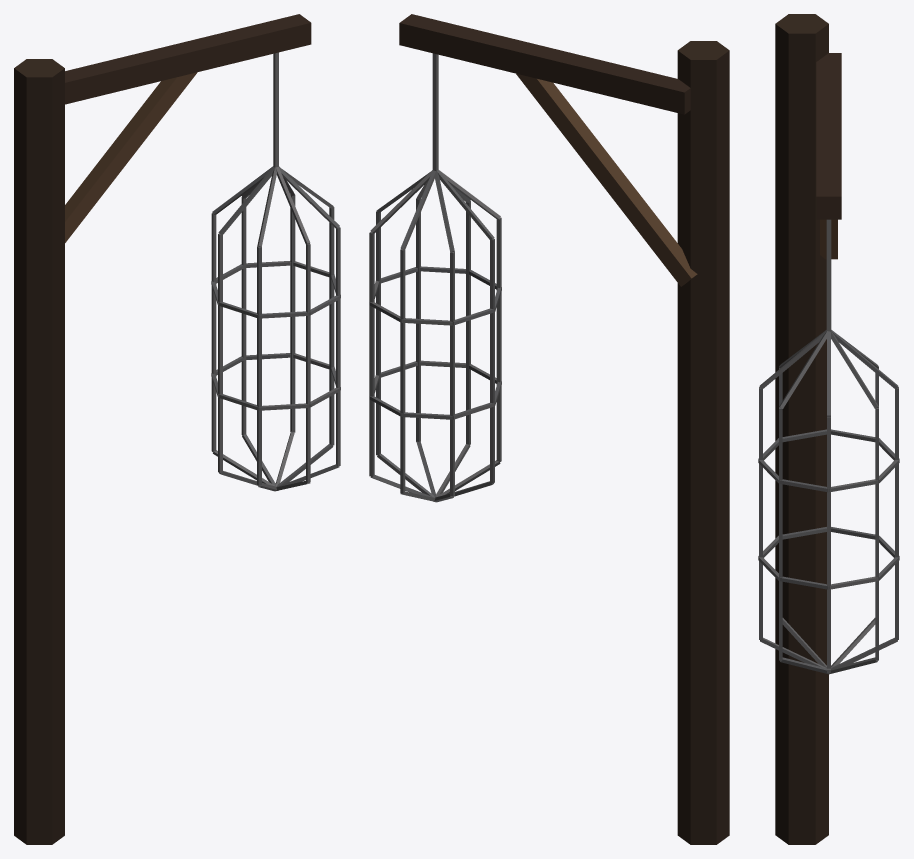
The model's file is gibbet.glb.
3 renders of one model, left to right at view 1: azimuth 30°, elevation 25°; view 2: azimuth 150°, elevation 25°; view 3: azimuth 270°, elevation 25°, orthographic. The views are drawn at different scales.
Parts seen in each view (by area): view 1: gibbet; view 2: gibbet; view 3: gibbet.
Part boxes in pixels (left/top/right/bottom): gibbet: left=14, top=14, right=340, bottom=844; gibbet: left=369, top=14, right=729, bottom=844; gibbet: left=758, top=14, right=899, bottom=844.
Size of the model in its own units: 2.22 by 5 by 0.7896.
Materials: 2 (2 with a texture image).
